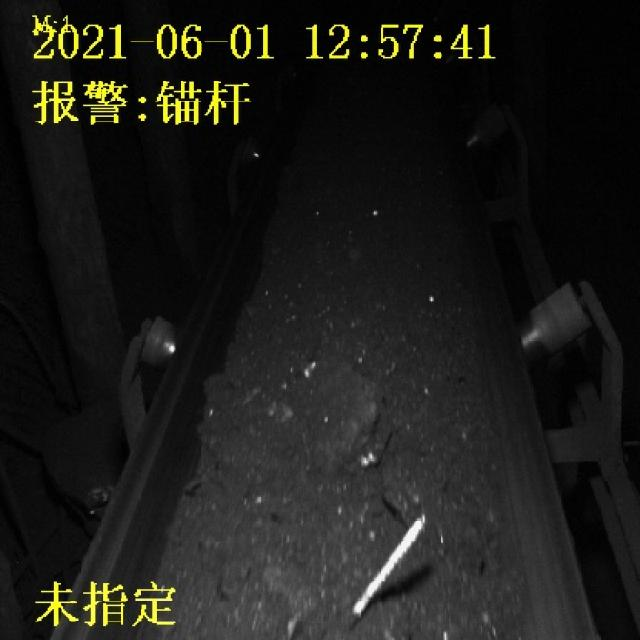bolt: (291, 517, 431, 640)
large_sized_coal: (298, 354, 391, 478), (204, 376, 296, 490)
